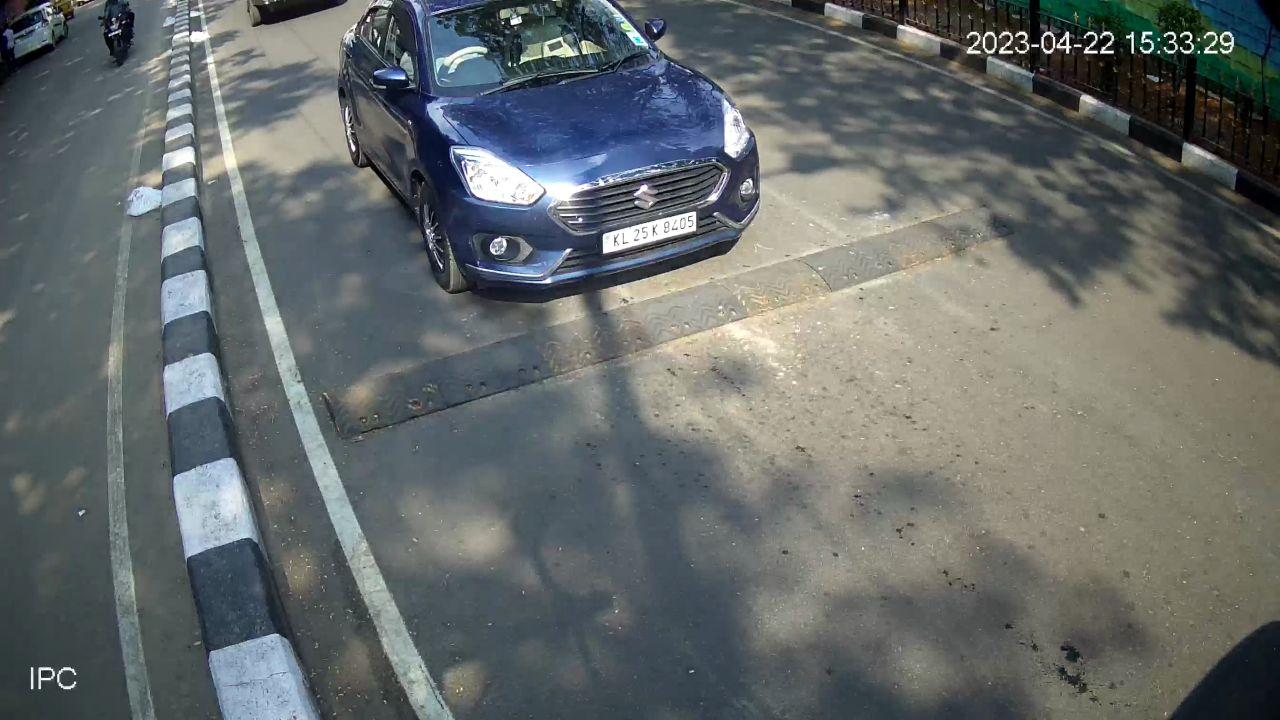license_plate: (598, 205, 703, 263)
